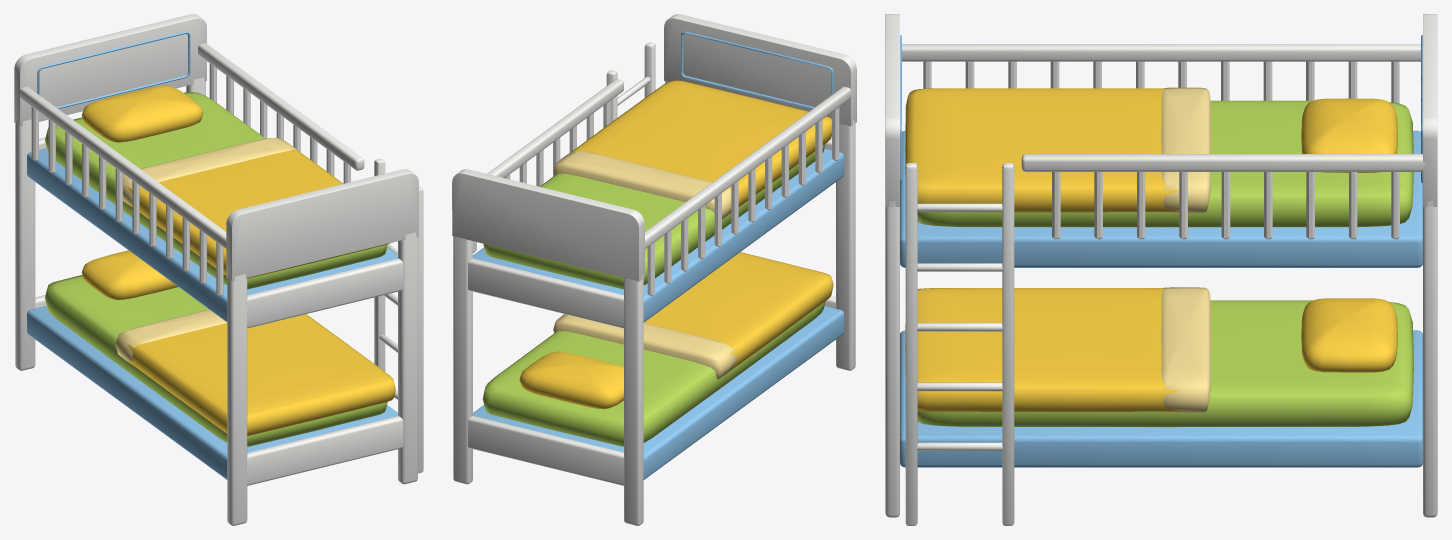
File: beliche_painel_branco.glb
The picture shows the model from 3 angles, left to right: view 1: azimuth 30°, elevation 25°; view 2: azimuth 150°, elevation 25°; view 3: azimuth 270°, elevation 25°; orthographic projection. The views are drawn at different scales.
Visible parts, largest first — view 1: beliche_painel_branco; view 2: beliche_painel_branco; view 3: beliche_painel_branco.
Boxes of the visible parts, left/top/right/bottom form: beliche_painel_branco: left=14, top=14, right=423, bottom=525; beliche_painel_branco: left=452, top=14, right=856, bottom=525; beliche_painel_branco: left=885, top=14, right=1437, bottom=525.
Bounding box in the file's own units: 1.09 × 1.62 × 2.06.
Materials: 1 (1 with a texture image).
